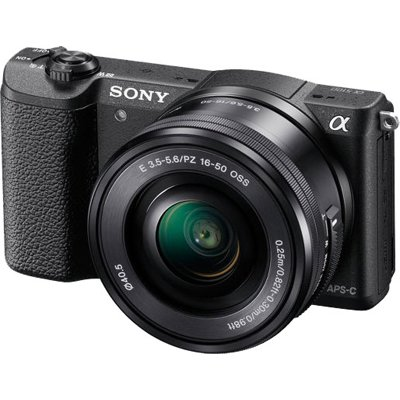kamera: (1, 42, 400, 361)
